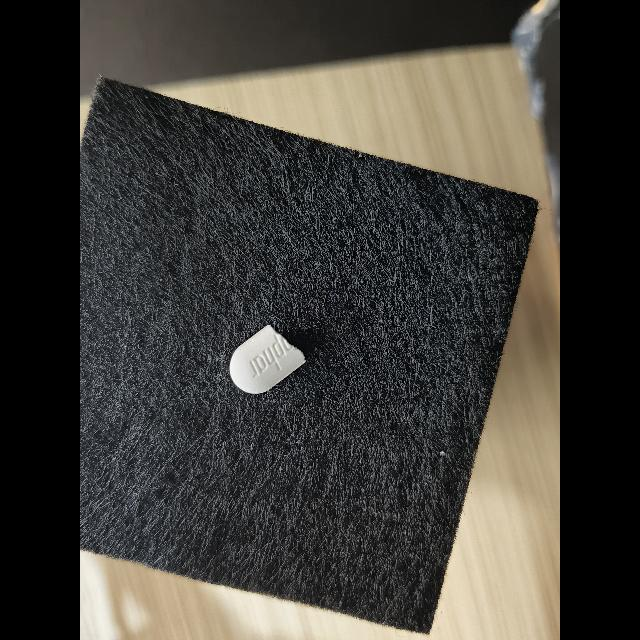Chipped Pill: (230, 325, 306, 394)
